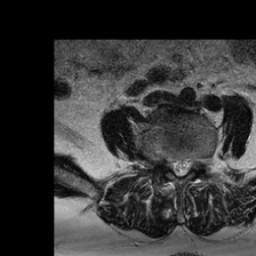CCS_normal: (176, 151, 184, 184)
LFS_stenosis: (191, 151, 200, 174)
LLS_normal: (184, 151, 191, 177)
RFS_severe_stenosis: (159, 149, 168, 174)
RLS_normal: (168, 151, 176, 177)
